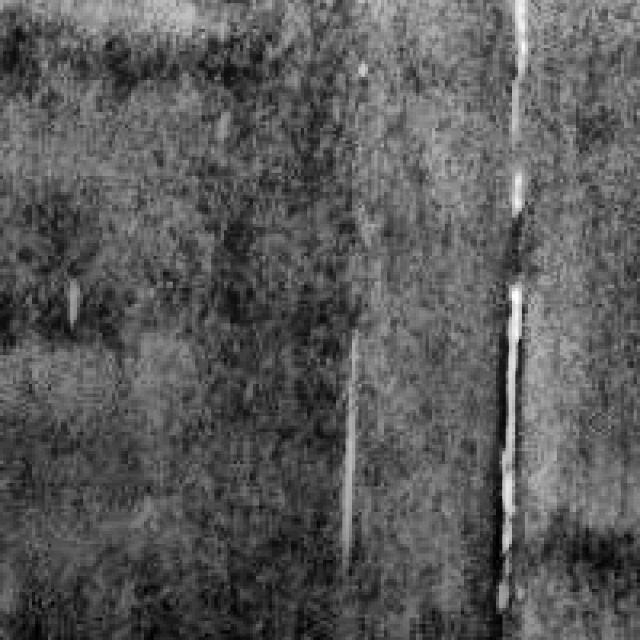Inclusion: (486, 275, 532, 560)
